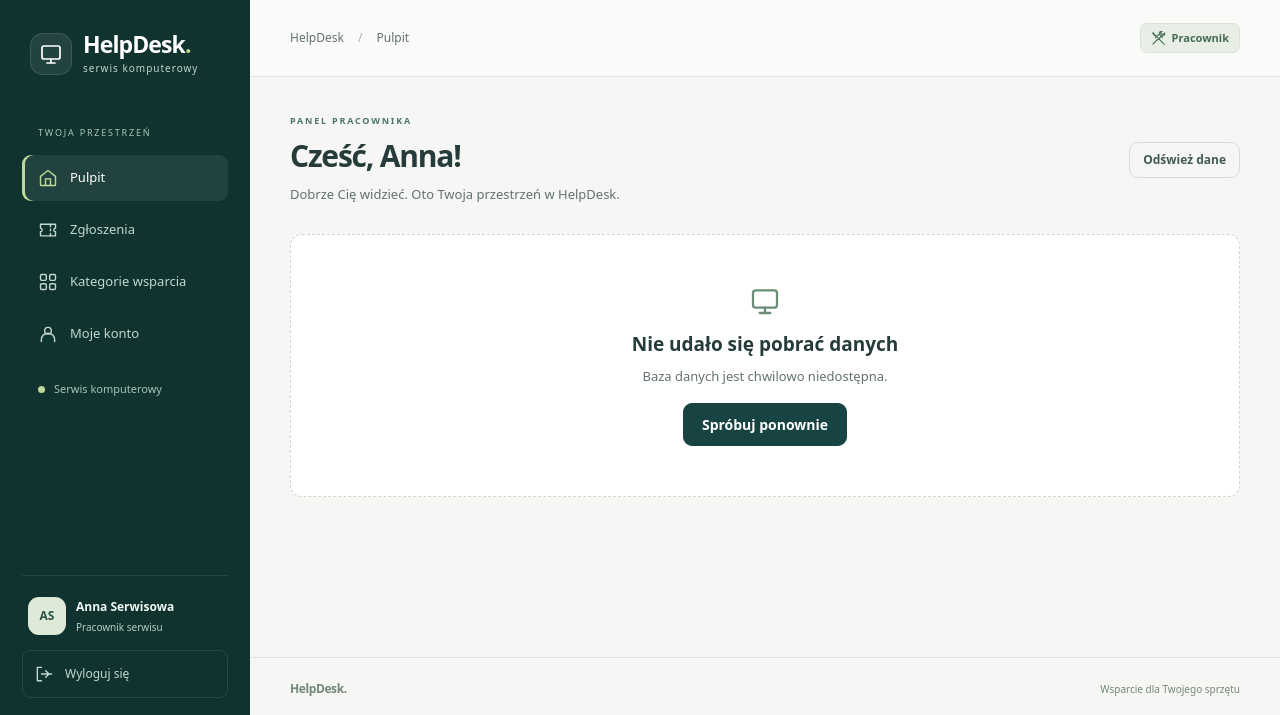
Test: Przy niedostępnych danych panel nie wyświetla zmyślonych liczników i pozwala ponowić pobranie
Expected: the message "Baza danych jest chwilowo niedostępna." is shown, [642,367,888,385]
Expected: the text "Wszystkie zgłoszenia w serwisie" is not shown
Step 1. Click the button "Spróbuj ponownie" → (765, 424), box [683,403,847,446]
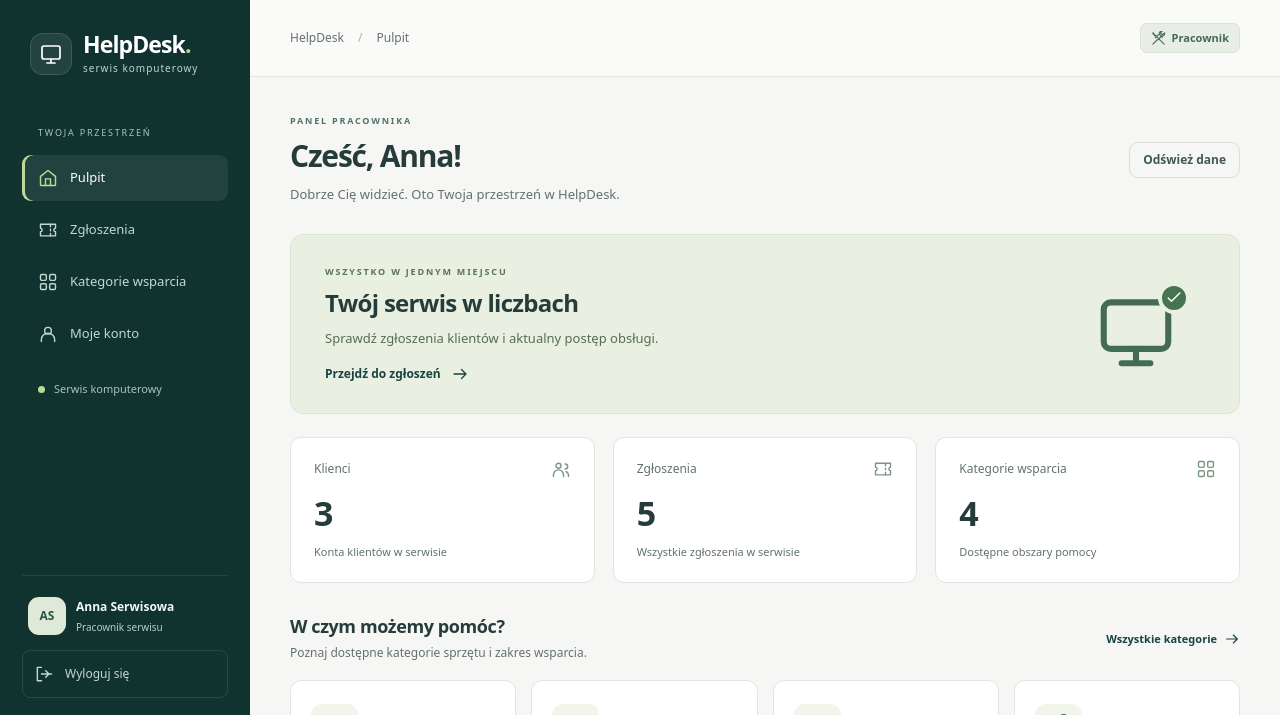
Expected: the text "Wszystkie zgłoszenia w serwisie" is shown, [637,544,800,559]
